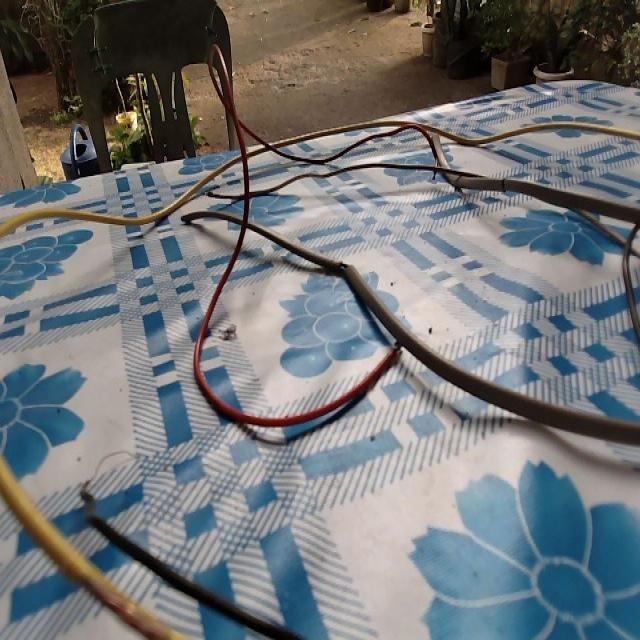-: (70, 562, 176, 638), (73, 480, 110, 528), (328, 252, 354, 277)
